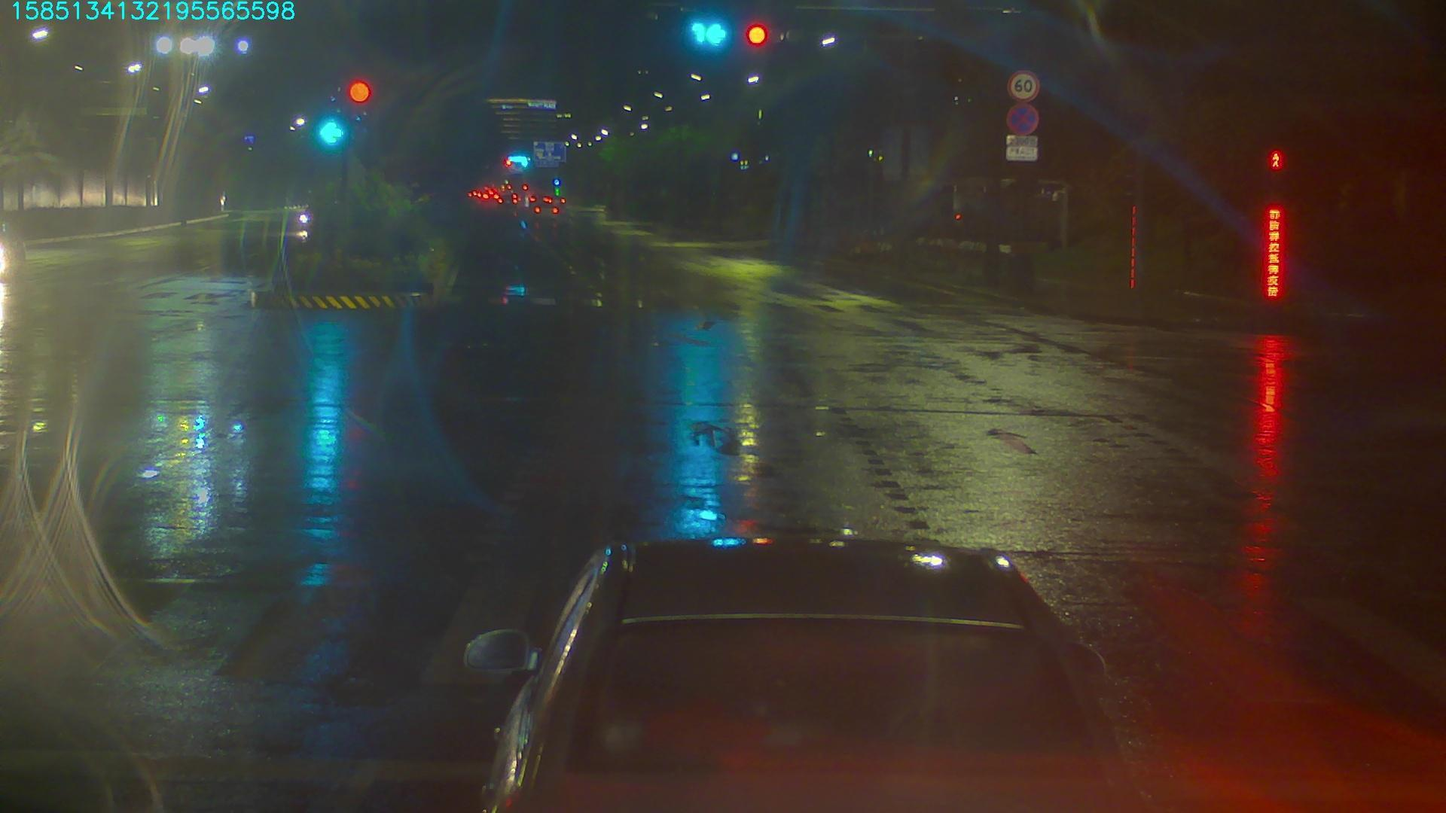green: (686, 20, 729, 52)
red: (745, 20, 773, 50)
